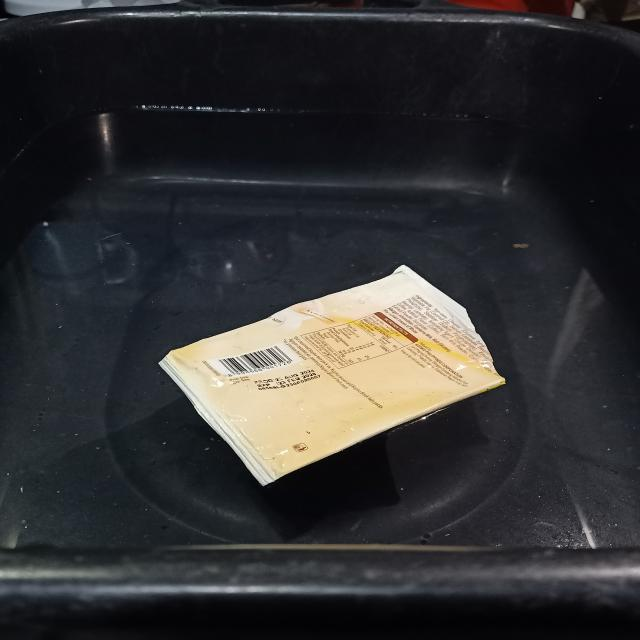Plastic Wrapper: (159, 265, 505, 485)
